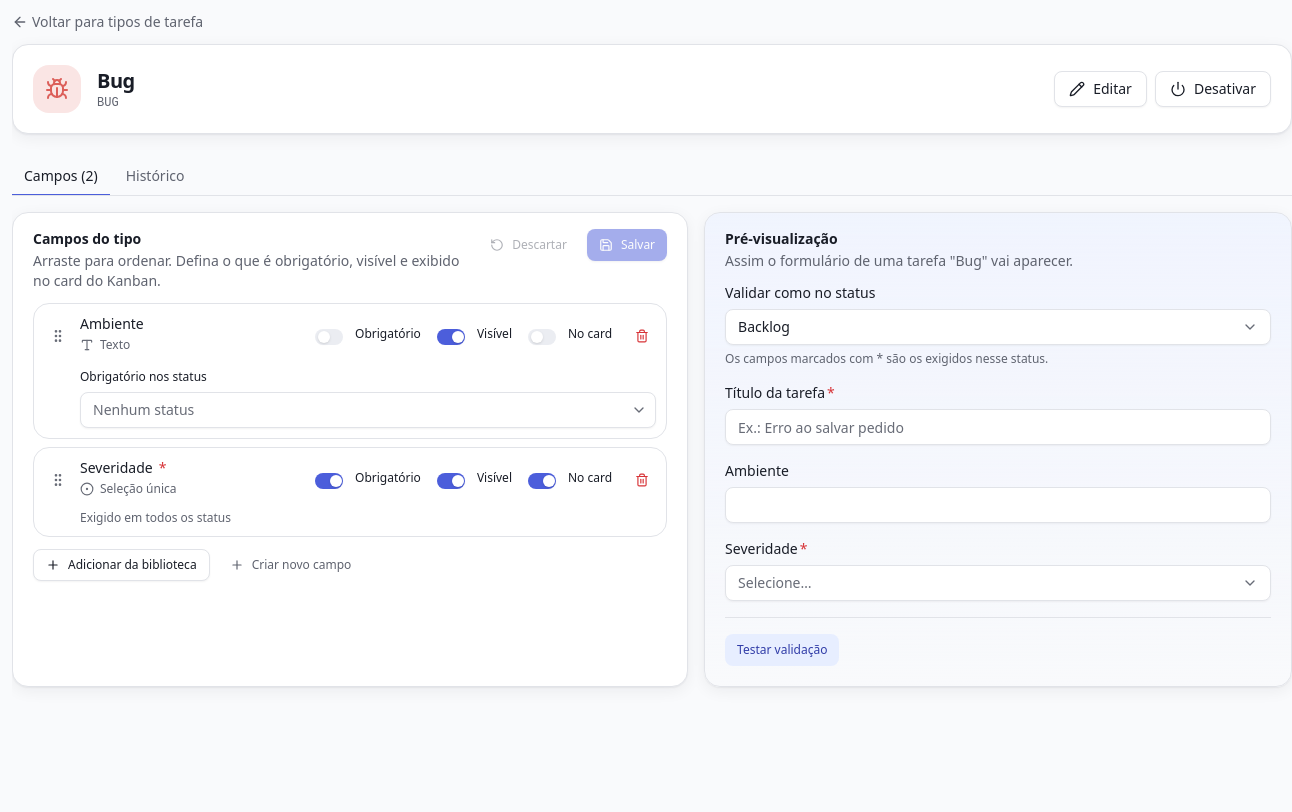
Test: TaskTypeDetailPage › descartar volta à configuração salva
What coordinates should you click on to do the following:
click the button named "Remover Ambiente do tipo"
I would click on:
 (642, 336)
Its box is x1=628 y1=322 x2=656 y2=350.
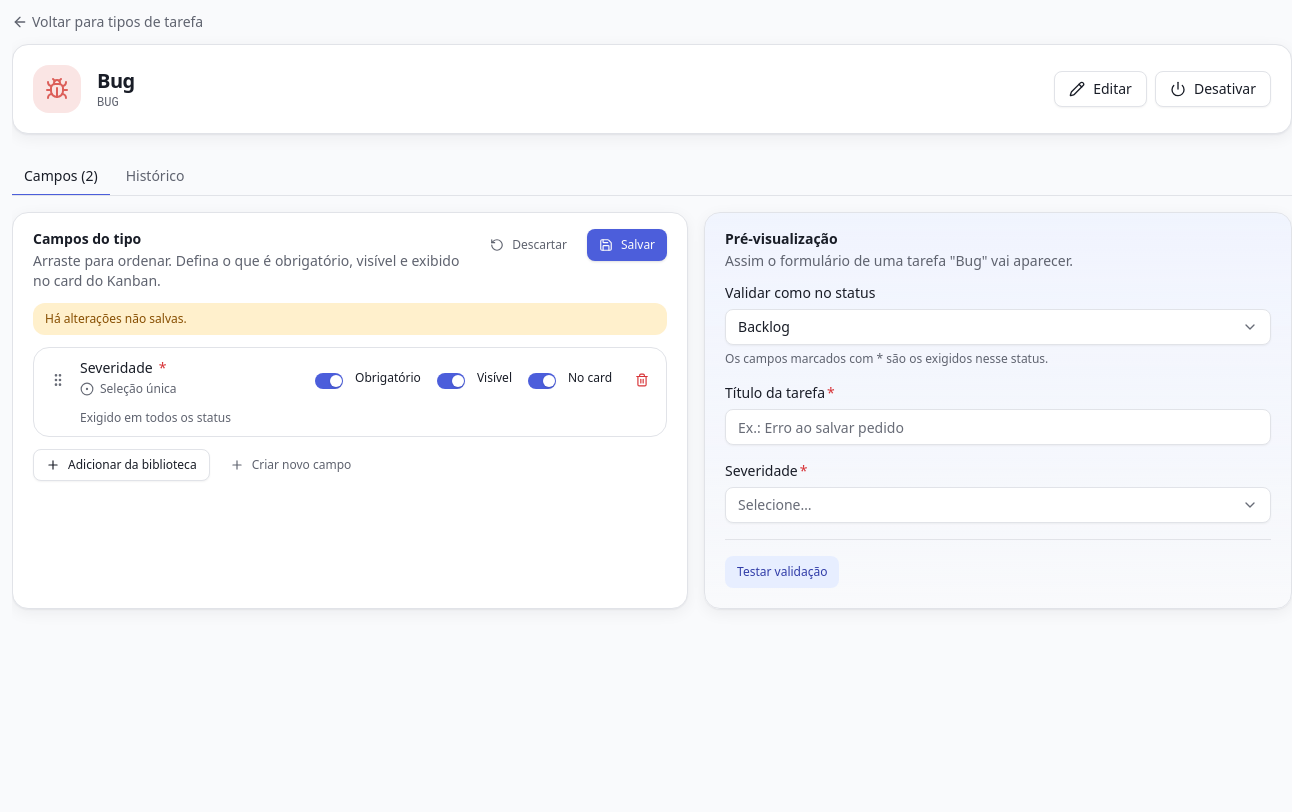
What coordinates should you click on to do the following:
click the button "Descartar"
I would click on:
 (528, 245)
Its box is x1=478 y1=229 x2=579 y2=261.
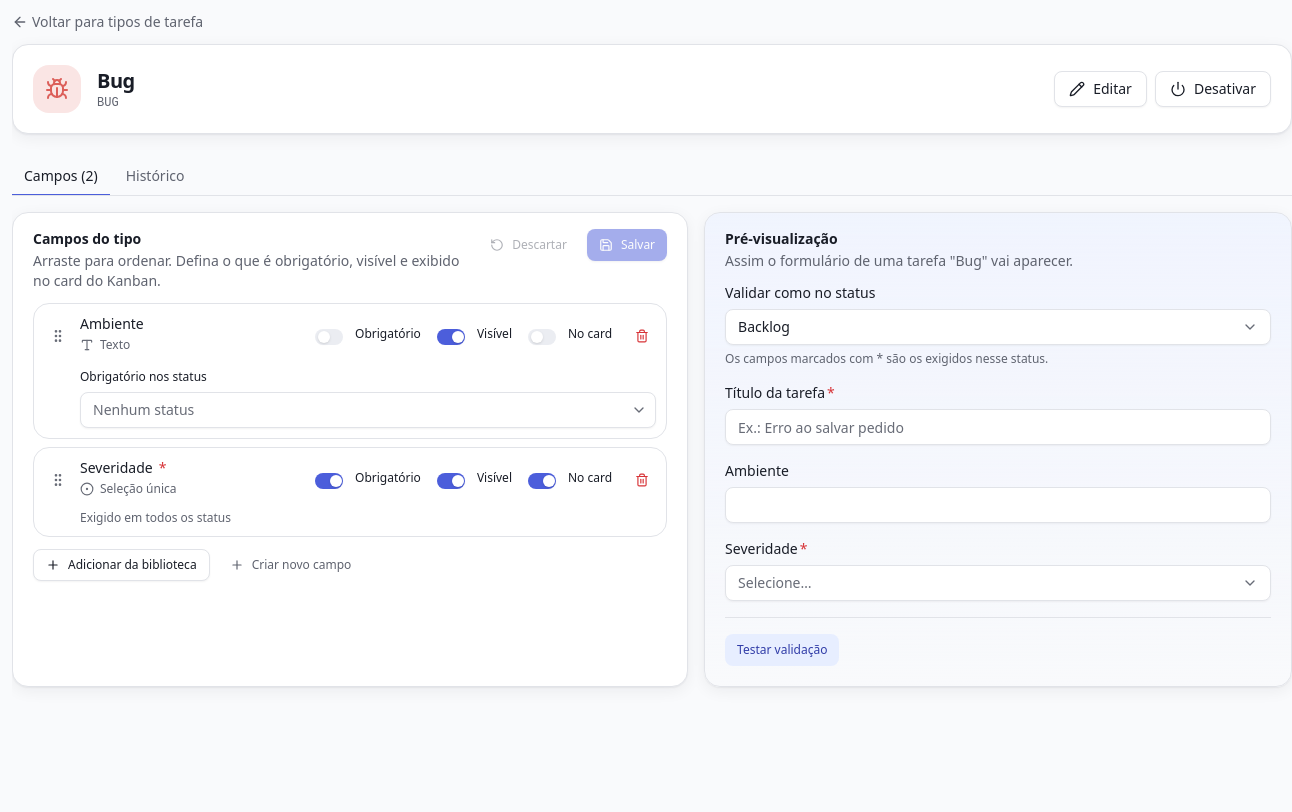
Check: the button named "Remover Ambiente do tipo" is shown, box x1=628 y1=322 x2=656 y2=350
Check: the text "Há alterações não salvas." is gone
